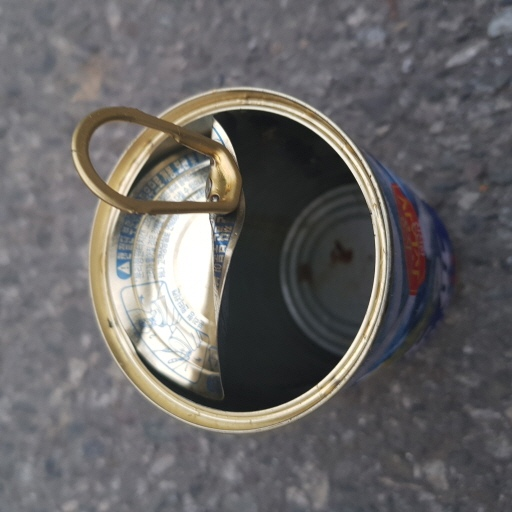Metal_1: (61, 85, 457, 444)
